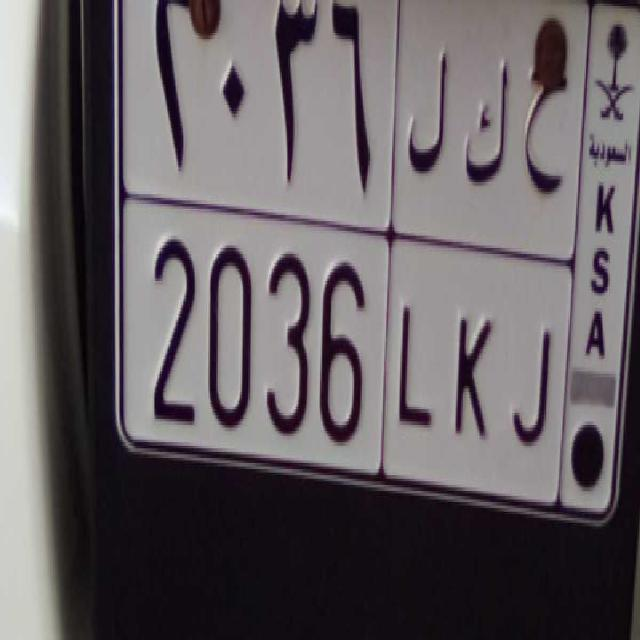license_plate: (126, 185, 562, 507)
